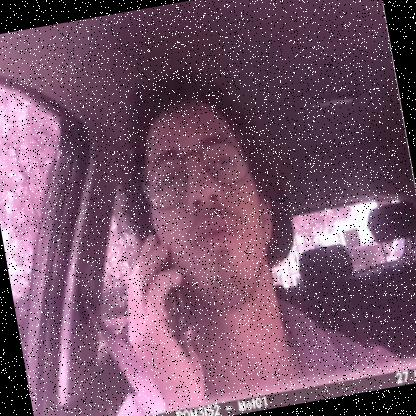phone: (130, 216, 206, 366)
